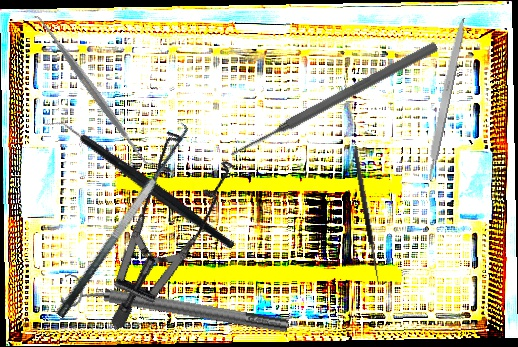Chopper: (42, 72, 236, 297)
Fixation Ring: (59, 270, 291, 346)
Hook Surgical: (352, 147, 388, 285)
Pusher: (226, 38, 440, 163)
Scalpel Handle: (422, 16, 468, 181)
Spatula Surgical: (39, 116, 199, 320), (28, 7, 159, 175)
Speculum: (42, 111, 275, 331)
